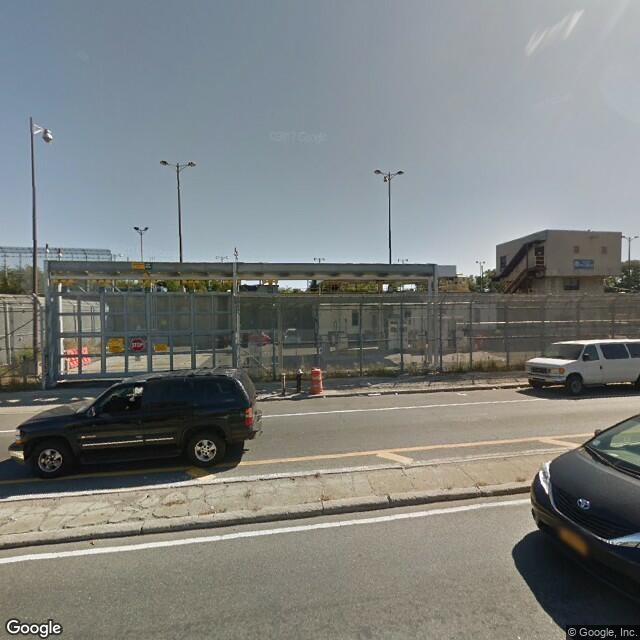litter: (367, 391, 382, 398), (365, 379, 373, 389)
